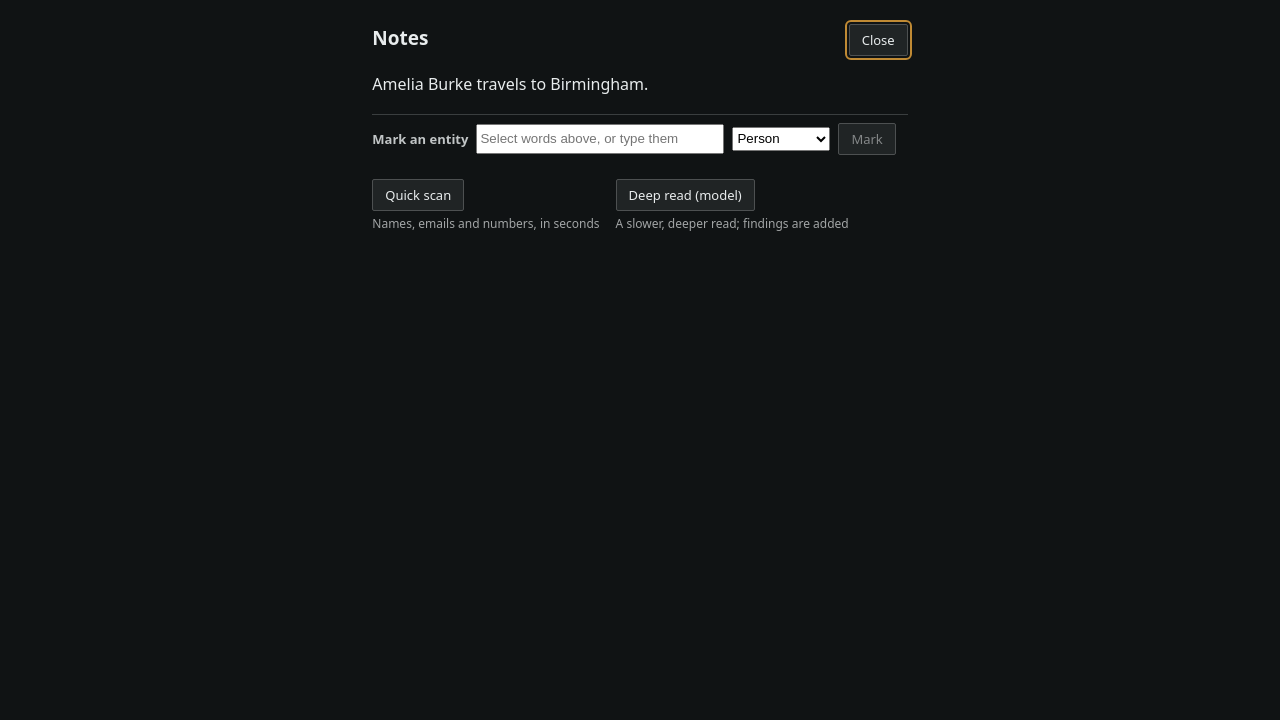
Test case: DocumentReader › accepts all pending findings as one decision and reports refusals in words (ADR-108 Q1)
The image size is (1280, 720).
Click the button "Quick scan": (418, 195) [372,179,464,211]
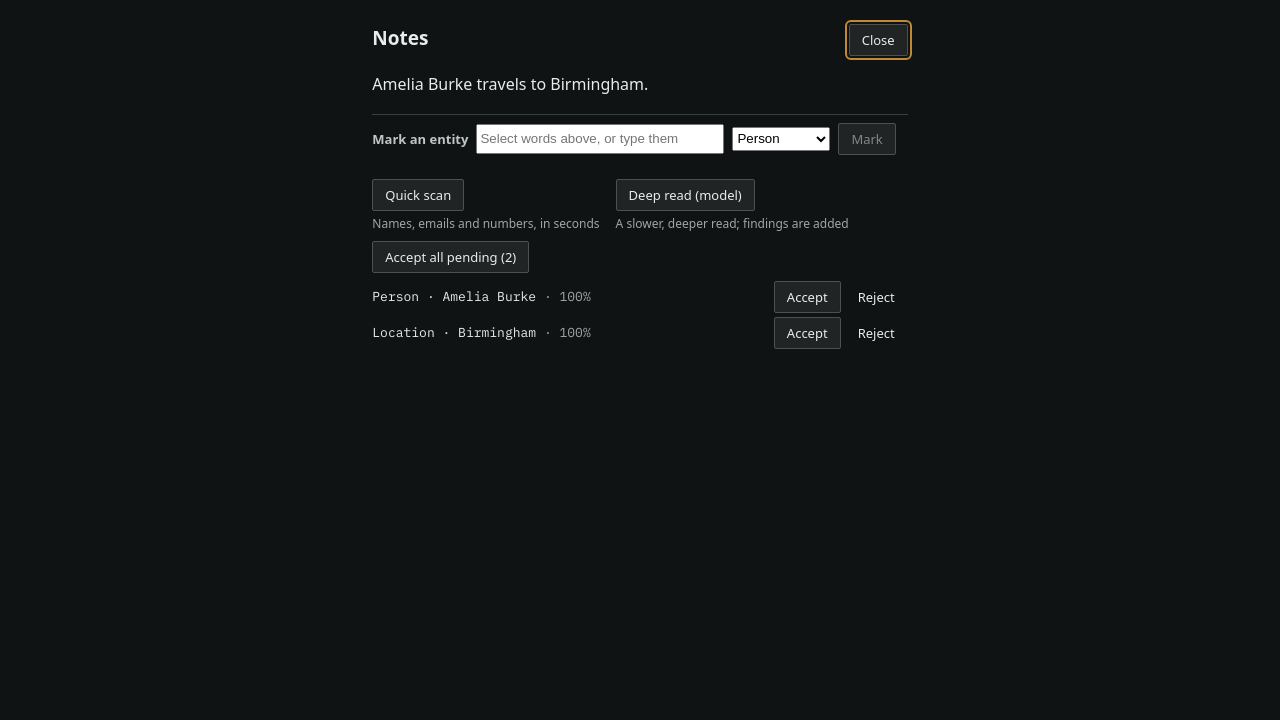
Click the button "Accept all pending (2)": (451, 257) [372,241,529,273]
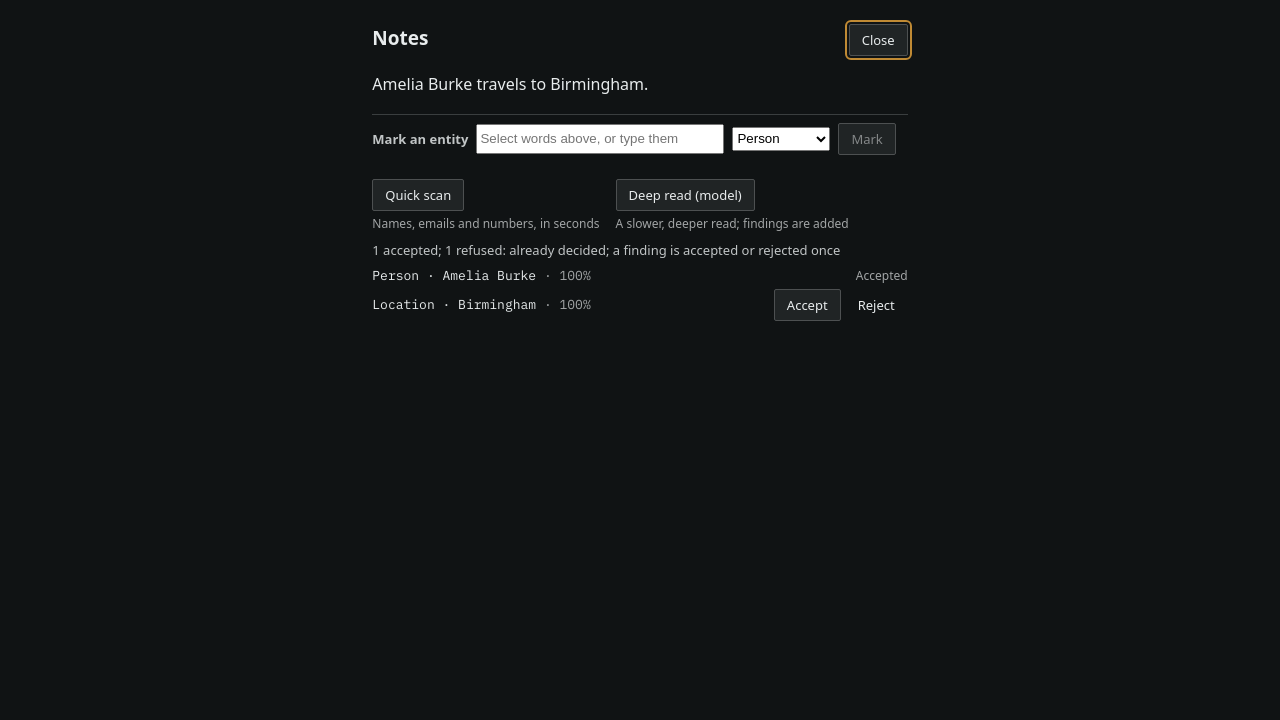
Check: the text "1 accepted; 1 refused: already decided; a finding is accepted or rejected once" is shown, box [372,241,908,259]
